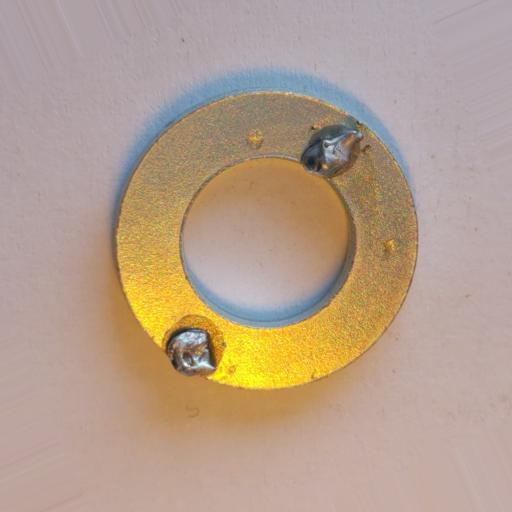excess_material: (300, 130, 363, 179), (165, 327, 217, 376)
